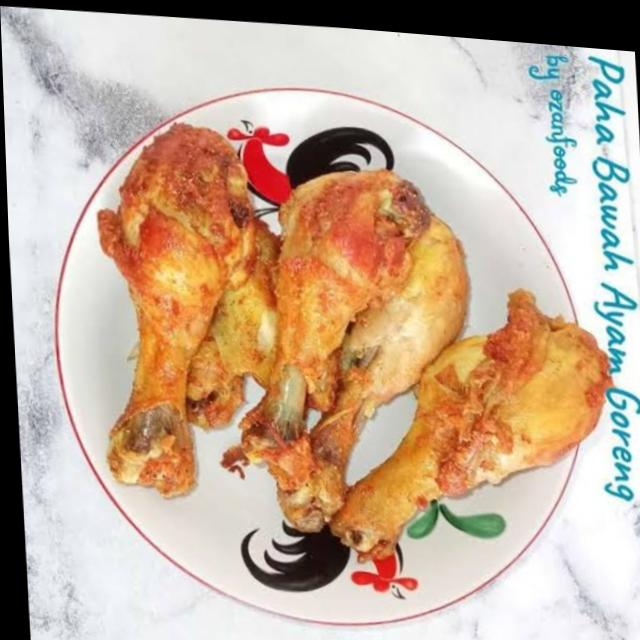CHICKEN FRY: (90, 122, 609, 562)
